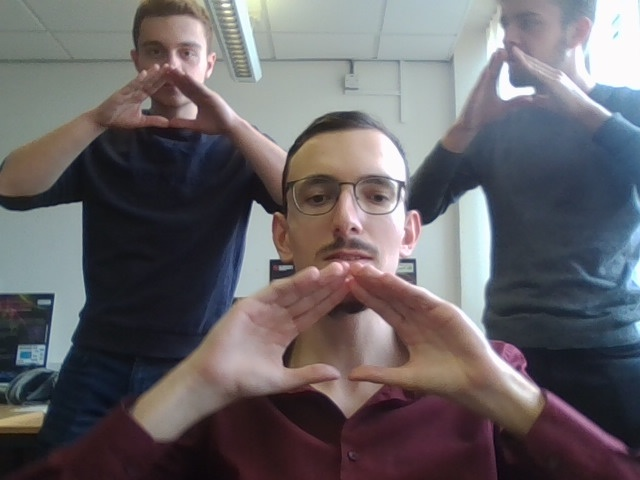thankyou: (206, 261, 491, 407), (92, 63, 237, 138), (459, 48, 589, 131)
